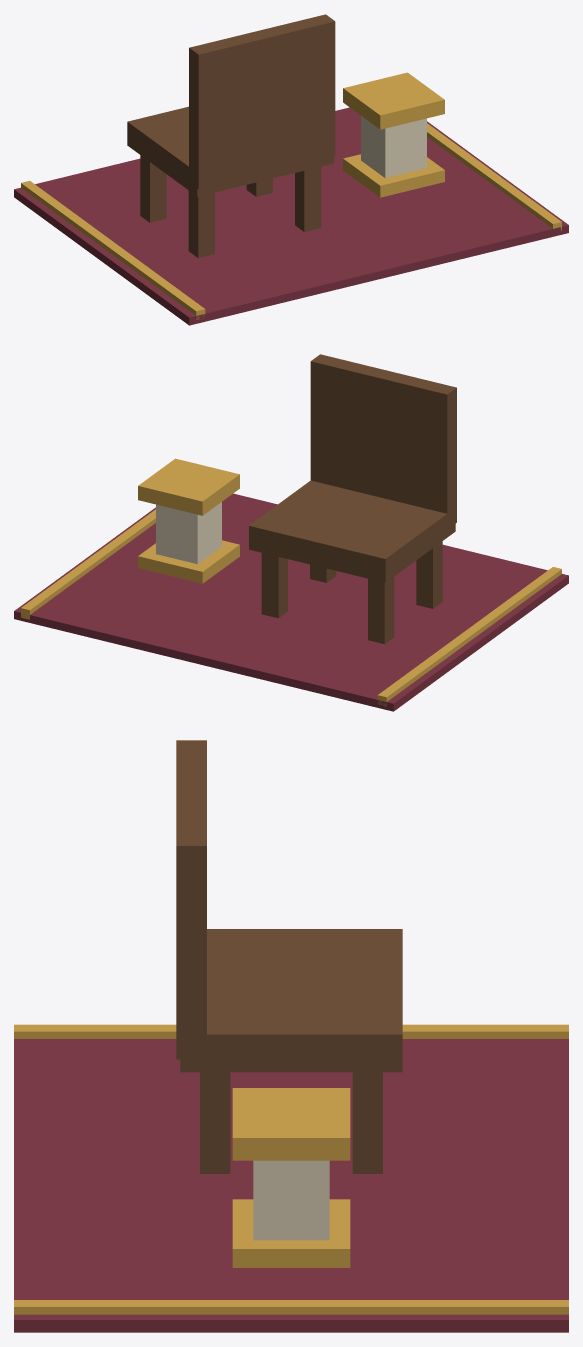
Rendered from hearth_decor.glb.
The picture shows the model from 3 angles, top to bottom: view 1: azimuth 30°, elevation 25°; view 2: azimuth 150°, elevation 25°; view 3: azimuth 270°, elevation 25°; orthographic projection. The views are drawn at different scales.
Parts seen in each view (by area): view 1: hearth_decor; view 2: hearth_decor; view 3: hearth_decor.
Boxes of the visible parts, x1,y1,x2,y2 form: hearth_decor: [14, 14, 568, 325]; hearth_decor: [14, 354, 568, 711]; hearth_decor: [14, 740, 568, 1332].
Bounding box in the file's own units: 5 × 2.75 × 4.
